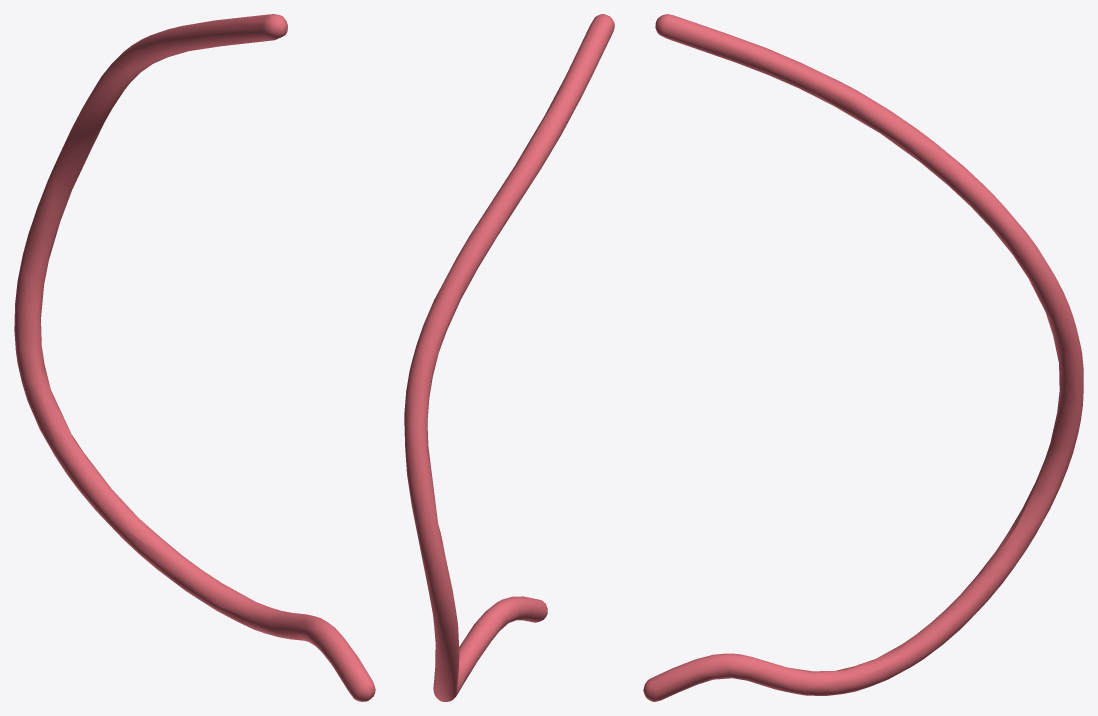
Rendered from fma50685_fj1678m.glb.
3 renders of one model, left to right at view 1: azimuth 30°, elevation 25°; view 2: azimuth 150°, elevation 25°; view 3: azimuth 270°, elevation 25°, orthographic. The views are drawn at different scales.
Parts seen in each view (by area): view 1: FMA50685_FJ1678M; view 2: FMA50685_FJ1678M; view 3: FMA50685_FJ1678M.
Part boxes in pixels (left/top/right/bottom): FMA50685_FJ1678M: left=14, top=14, right=375, bottom=701; FMA50685_FJ1678M: left=404, top=14, right=614, bottom=701; FMA50685_FJ1678M: left=643, top=14, right=1083, bottom=701.
Size of the model in its own units: 0.00588 by 0.0286 by 0.0176.
